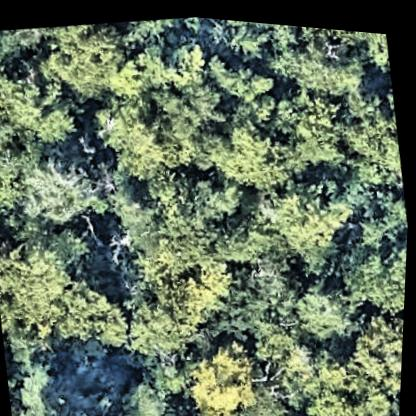tree-top: (107, 166, 258, 282), (112, 248, 241, 361), (194, 242, 308, 343), (0, 228, 89, 352), (251, 163, 357, 263), (88, 94, 192, 190), (260, 18, 371, 104), (87, 338, 204, 416), (202, 104, 299, 195), (46, 15, 138, 108), (0, 58, 83, 160), (17, 142, 113, 229), (337, 76, 409, 192), (49, 269, 137, 358), (181, 326, 266, 416), (146, 64, 235, 143), (270, 328, 348, 411), (337, 225, 409, 313), (292, 265, 370, 342), (201, 42, 281, 111), (348, 298, 406, 385), (8, 361, 97, 416), (309, 364, 402, 416), (286, 89, 347, 160), (351, 174, 411, 245), (254, 18, 360, 54), (220, 16, 275, 66), (0, 132, 29, 223), (0, 22, 54, 70), (242, 373, 296, 416), (350, 25, 391, 70), (0, 30, 11, 112), (391, 364, 404, 415)
